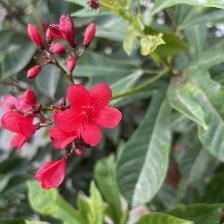jatropha: (58, 85, 127, 148)
